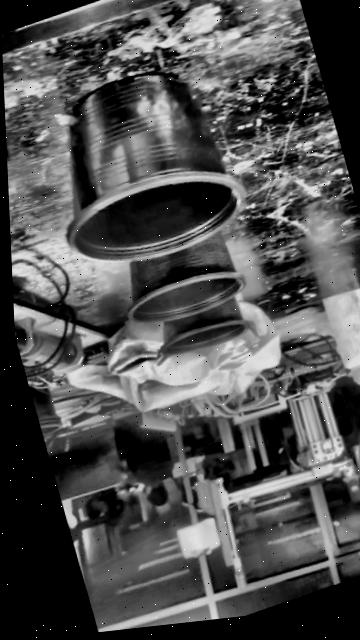pot: (26, 44, 251, 286), (127, 234, 244, 321), (161, 297, 248, 353), (28, 378, 64, 431)
